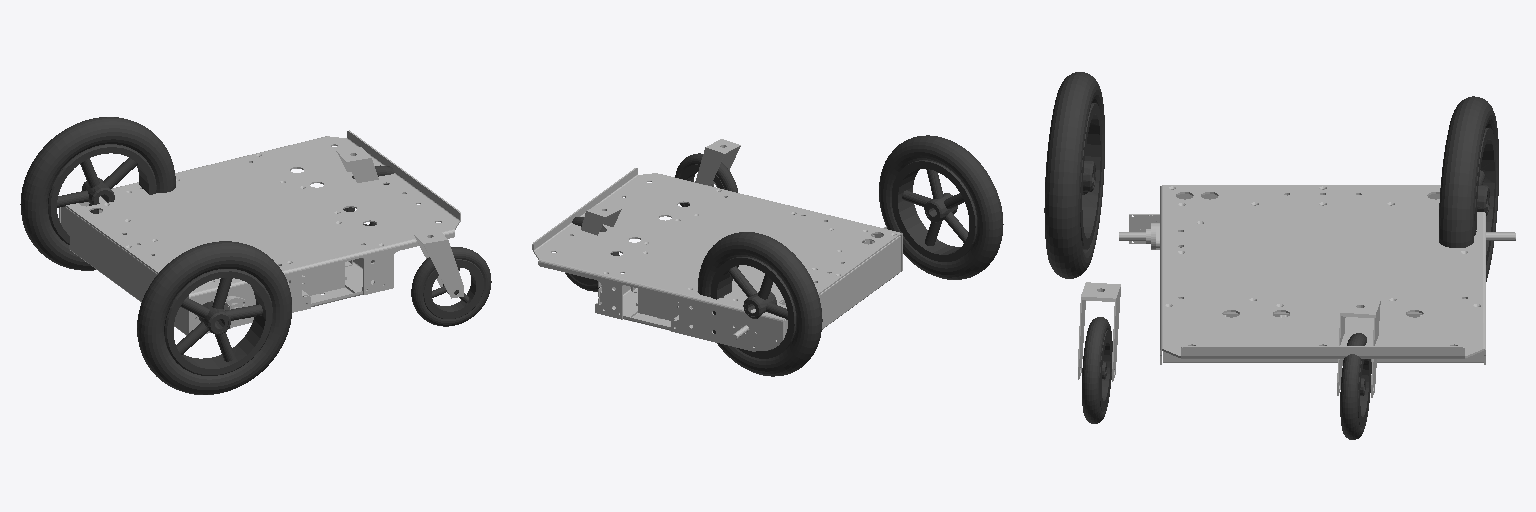
robot.urdf — dpr4_description:
<robot
  name="dpr4_description">
  <link
    name="base_link">
    <inertial>
      <origin
        xyz="0.213627063293252 0.0526066015920107 0.108028639270564"
        rpy="0 0 0" />
      <mass
        value="11.846925821453" />
      <inertia
        ixx="0.215224712664857"
        ixy="-0.00260073216326496"
        ixz="-0.00224470250436654"
        iyy="0.189528460870013"
        iyz="0.000283047501022847"
        izz="0.387947698500775" />
    </inertial>
    <visual>
      <origin
        xyz="0 0 0"
        rpy="0 0 0" />
      <geometry>
        <mesh
          filename="package://dpr4_description/meshes/base_link.STL" />
      </geometry>
      <material
        name="">
        <color
          rgba="0.752941176470588 0.752941176470588 0.752941176470588 1" />
      </material>
    </visual>
    <collision>
      <origin
        xyz="0 0 0"
        rpy="0 0 0" />
      <geometry>
        <mesh
          filename="package://dpr4_description/meshes/base_link.STL" />
      </geometry>
    </collision>
  </link>
  <link
    name="AandrijfwielLinks">
    <inertial>
      <origin
        xyz="0.048307723482591 -0.0956757854798777 0.034879921431437"
        rpy="0 0 0" />
      <mass
        value="1.98850951394841" />
      <inertia
        ixx="0.0252611398228521"
        ixy="0.00120836004966569"
        ixz="-0.00133091543057524"
        iyy="0.0132060652824576"
        iyz="-0.000132092231656589"
        izz="0.0132316258981368" />
    </inertial>
    <visual>
      <origin
        xyz="0 0 0"
        rpy="0 0 0" />
      <geometry>
        <mesh
          filename="package://dpr4_description/meshes/AandrijfwielLinks.STL" />
      </geometry>
      <material
        name="">
        <color
          rgba="0.294117647058824 0.294117647058824 0.294117647058824 1" />
      </material>
    </visual>
    <collision>
      <origin
        xyz="0 0 0"
        rpy="0 0 0" />
      <geometry>
        <mesh
          filename="package://dpr4_description/meshes/AandrijfwielLinks.STL" />
      </geometry>
    </collision>
  </link>
  <joint
    name="AandrijfwielJointLinks"
    type="continuous">
    <origin
      xyz="-0.0282464240706431 -0.268065095057138 0.156065936359952"
      rpy="0.833624618439072 1.33733009515224E-15 1.42420629036135" />
    <parent
      link="base_link" />
    <child
      link="AandrijfwielLinks" />
    <axis
      xyz="-1 0 0" />
  </joint>
  <link
    name="AandrijfwielRechts">
    <inertial>
      <origin
        xyz="0.0940661148510732 -0.0481497557449084 0.00366077812370196"
        rpy="0 0 0" />
      <mass
        value="1.98850951394841" />
      <inertia
        ixx="0.0252611398166548"
        ixy="0.000210548957505752"
        ixz="-0.00178525602873076"
        iyy="0.013089777583101"
        iyz="-3.08732671676455E-05"
        izz="0.0133479136036906" />
    </inertial>
    <visual>
      <origin
        xyz="0 0 0"
        rpy="0 0 0" />
      <geometry>
        <mesh
          filename="package://dpr4_description/meshes/AandrijfwielRechts.STL" />
      </geometry>
      <material
        name="">
        <color
          rgba="0.294117647058824 0.294117647058824 0.294117647058824 1" />
      </material>
    </visual>
    <collision>
      <origin
        xyz="0 0 0"
        rpy="0 0 0" />
      <geometry>
        <mesh
          filename="package://dpr4_description/meshes/AandrijfwielRechts.STL" />
      </geometry>
    </collision>
  </link>
  <joint
    name="AandrijfwielJointRechts"
    type="continuous">
    <origin
      xyz="0.0450645120366924 0.228456132827706 0.156065936359953"
      rpy="1.45340093763758 2.27107070527088E-16 1.42420629036135" />
    <parent
      link="base_link" />
    <child
      link="AandrijfwielRechts" />
    <axis
      xyz="-1 0 0" />
  </joint>
  <link
    name="PassiefLinkLinks">
    <inertial>
      <origin
        xyz="0.0837221248460882 0.0344894913205067 -0.140479015992092"
        rpy="0 0 0" />
      <mass
        value="0.027578120885064" />
      <inertia
        ixx="4.49175970273181E-05"
        ixy="1.2307576219032E-05"
        ixz="-4.15758518250327E-07"
        iyy="2.08578618373714E-05"
        iyz="-1.81720313887334E-06"
        izz="4.21631289093414E-05" />
    </inertial>
    <visual>
      <origin
        xyz="0 0 0"
        rpy="0 0 0" />
      <geometry>
        <mesh
          filename="package://dpr4_description/meshes/PassiefLinkLinks.STL" />
      </geometry>
      <material
        name="">
        <color
          rgba="0.752941176470588 0.752941176470588 0.752941176470588 1" />
      </material>
    </visual>
    <collision>
      <origin
        xyz="0 0 0"
        rpy="0 0 0" />
      <geometry>
        <mesh
          filename="package://dpr4_description/meshes/PassiefLinkLinks.STL" />
      </geometry>
    </collision>
  </link>
  <joint
    name="PassiefJointLinks"
    type="continuous">
    <origin
      xyz="0.426071935947264 -0.258167122222898 0.0780659363599518"
      rpy="1.5707963267949 -8.97790964757775E-18 -0.147155764293911" />
    <parent
      link="base_link" />
    <child
      link="PassiefLinkLinks" />
    <axis
      xyz="0 1 0" />
  </joint>
  <link
    name="ZwenkwielLinks">
    <inertial>
      <origin
        xyz="0.144887870932963 0.0823759963906841 -0.0184273399720342"
        rpy="0 0 0" />
      <mass
        value="0.2926460297435" />
      <inertia
        ixx="0.000968641461773369"
        ixy="-4.71388192981209E-05"
        ixz="5.01321333937055E-05"
        iyy="0.000507348512867715"
        iyz="-5.0704513867776E-06"
        izz="0.000507972934894044" />
    </inertial>
    <visual>
      <origin
        xyz="0 0 0"
        rpy="0 0 0" />
      <geometry>
        <mesh
          filename="package://dpr4_description/meshes/ZwenkwielLinks.STL" />
      </geometry>
      <material
        name="">
        <color
          rgba="0.294117647058824 0.294117647058824 0.294117647058824 1" />
      </material>
    </visual>
    <collision>
      <origin
        xyz="0 0 0"
        rpy="0 0 0" />
      <geometry>
        <mesh
          filename="package://dpr4_description/meshes/ZwenkwielLinks.STL" />
      </geometry>
    </collision>
  </link>
  <joint
    name="ZwenkwielJointLinks"
    type="continuous">
    <origin
      xyz="0.0402530425707102 0.0100000000000001 0"
      rpy="1.57759894294971 1.57079630572147 -0.799615214926937" />
    <parent
      link="PassiefLinkLinks" />
    <child
      link="ZwenkwielLinks" />
    <axis
      xyz="-1 0 0" />
  </joint>
  <link
    name="PassiefLinkRechts">
    <inertial>
      <origin
        xyz="0.0296839515797069 0.0344894913205067 -0.136595027102795"
        rpy="0 0 0" />
      <mass
        value="0.0275781208850642" />
      <inertia
        ixx="4.49175970273183E-05"
        ixy="1.23075762190321E-05"
        ixz="-4.15758518250319E-07"
        iyy="2.08578618373715E-05"
        iyz="-1.81720313887329E-06"
        izz="4.21631289093417E-05" />
    </inertial>
    <visual>
      <origin
        xyz="0 0 0"
        rpy="0 0 0" />
      <geometry>
        <mesh
          filename="package://dpr4_description/meshes/PassiefLinkRechts.STL" />
      </geometry>
      <material
        name="">
        <color
          rgba="0.752941176470588 0.752941176470588 0.752941176470588 1" />
      </material>
    </visual>
    <collision>
      <origin
        xyz="0 0 0"
        rpy="0 0 0" />
      <geometry>
        <mesh
          filename="package://dpr4_description/meshes/PassiefLinkRechts.STL" />
      </geometry>
    </collision>
  </link>
  <joint
    name="PassiefJointRechts"
    type="continuous">
    <origin
      xyz="0.479531944388918 0.103907493702353 0.0780659363599517"
      rpy="1.5707963267949 -9.23902259508227E-18 -0.151468187968226" />
    <parent
      link="base_link" />
    <child
      link="PassiefLinkRechts" />
    <axis
      xyz="0 1 0" />
  </joint>
  <link
    name="ZwenkwielRechts">
    <inertial>
      <origin
        xyz="0.140014607917044 -0.0048898069137992 0.0497659421938803"
        rpy="0 0 0" />
      <mass
        value="0.29264656535805" />
      <inertia
        ixx="0.000968641729498815"
        ixy="-6.27531081530752E-05"
        ixz="-2.82373164212915E-05"
        iyy="0.000511030196054125"
        iyz="3.80204158394628E-06"
        izz="0.000504291576128644" />
    </inertial>
    <visual>
      <origin
        xyz="0 0 0"
        rpy="0 0 0" />
      <geometry>
        <mesh
          filename="package://dpr4_description/meshes/ZwenkwielRechts.STL" />
      </geometry>
      <material
        name="">
        <color
          rgba="0.294117647058824 0.294117647058824 0.294117647058824 1" />
      </material>
    </visual>
    <collision>
      <origin
        xyz="0 0 0"
        rpy="0 0 0" />
      <geometry>
        <mesh
          filename="package://dpr4_description/meshes/ZwenkwielRechts.STL" />
      </geometry>
    </collision>
  </link>
  <joint
    name="ZwenkwielJointRechts"
    type="continuous">
    <origin
      xyz="0.0402530425707104 0.0100000000000002 0"
      rpy="0.788698481447936 1.57079631189374 -0.363147009946176" />
    <parent
      link="PassiefLinkRechts" />
    <child
      link="ZwenkwielRechts" />
    <axis
      xyz="-1 0 0" />
  </joint>
</robot>

--- Render facts (derived) ---
Views: 3 orthographic renders of the robot side by side, from view 1: azimuth 30°, elevation 25°; view 2: azimuth 150°, elevation 25°; view 3: azimuth 270°, elevation 25°.
Robot: dpr4_description — 7 links, 6 joints (6 continuous); root link base_link; default pose: every joint at zero.
Visible links, largest first — view 1: base_link, AandrijfwielLinks, AandrijfwielRechts, ZwenkwielLinks, PassiefLinkLinks, PassiefLinkRechts; view 2: base_link, AandrijfwielLinks, AandrijfwielRechts, PassiefLinkLinks, ZwenkwielLinks, PassiefLinkRechts; view 3: base_link, AandrijfwielLinks, AandrijfwielRechts, ZwenkwielLinks, ZwenkwielRechts, PassiefLinkLinks, PassiefLinkRechts.
Link boxes in pixels (left/top/right/bottom): base_link: left=59, top=130, right=460, bottom=335; AandrijfwielLinks: left=137, top=241, right=291, bottom=394; AandrijfwielRechts: left=20, top=117, right=175, bottom=270; ZwenkwielLinks: left=411, top=247, right=491, bottom=326; PassiefLinkLinks: left=413, top=229, right=463, bottom=298; PassiefLinkRechts: left=336, top=147, right=378, bottom=182; base_link: left=532, top=168, right=902, bottom=351; AandrijfwielLinks: left=879, top=135, right=1003, bottom=279; AandrijfwielRechts: left=698, top=232, right=822, bottom=376; PassiefLinkLinks: left=695, top=139, right=740, bottom=187; ZwenkwielLinks: left=675, top=153, right=737, bottom=206; PassiefLinkRechts: left=581, top=202, right=621, bottom=235; base_link: left=1119, top=185, right=1515, bottom=364; AandrijfwielLinks: left=1044, top=72, right=1104, bottom=278; AandrijfwielRechts: left=1439, top=96, right=1498, bottom=281; ZwenkwielLinks: left=1082, top=317, right=1112, bottom=423; ZwenkwielRechts: left=1340, top=333, right=1371, bottom=439; PassiefLinkLinks: left=1078, top=282, right=1120, bottom=381; PassiefLinkRechts: left=1337, top=298, right=1380, bottom=397.
Size in the robot's own frame: 0.7693 by 0.6573 by 0.2891 metres.
7 mesh visuals loaded from 7 distinct referenced files (7 binary STL).